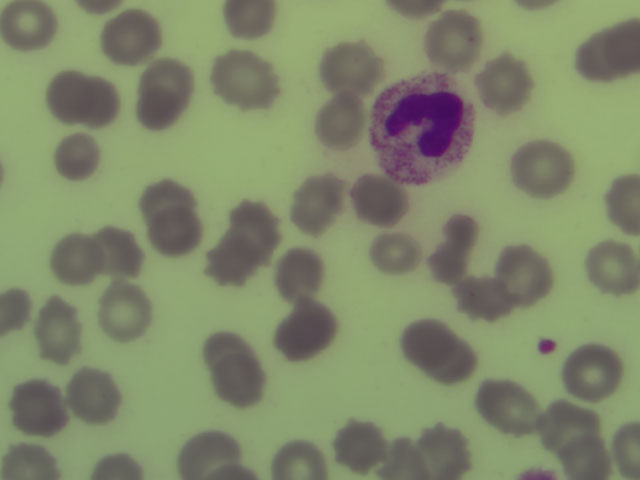Platelets: (538, 341, 555, 354)
RBC: (471, 377, 543, 436), (216, 50, 279, 114), (518, 139, 575, 201), (233, 197, 280, 271), (568, 345, 624, 405), (13, 379, 69, 437), (501, 246, 554, 307), (292, 175, 346, 234), (282, 303, 337, 359), (211, 355, 269, 408), (482, 56, 535, 113), (337, 418, 390, 475), (100, 282, 150, 342), (104, 12, 163, 62), (424, 421, 474, 480), (54, 230, 105, 287), (589, 238, 640, 295), (39, 297, 82, 364), (69, 371, 122, 425), (328, 41, 383, 93), (430, 12, 482, 67), (210, 232, 262, 287), (47, 72, 98, 126), (358, 171, 408, 226), (144, 179, 197, 229), (4, 2, 58, 50), (539, 399, 599, 442), (149, 211, 203, 258), (275, 249, 325, 299), (95, 226, 147, 274), (457, 276, 514, 319), (184, 431, 242, 472), (578, 33, 626, 82), (405, 324, 455, 370), (277, 438, 331, 480), (140, 56, 193, 98), (369, 231, 422, 273), (324, 94, 366, 145), (205, 328, 258, 367), (4, 444, 63, 478), (222, 3, 279, 38), (130, 91, 183, 128), (58, 134, 100, 180), (436, 338, 479, 382), (566, 438, 611, 480), (83, 75, 120, 126), (609, 174, 640, 233), (612, 418, 640, 480), (383, 439, 425, 480), (606, 21, 640, 69), (98, 449, 150, 480), (434, 242, 469, 286), (445, 211, 480, 250), (3, 288, 32, 333), (384, 1, 449, 18), (212, 462, 258, 480), (76, 1, 135, 14), (517, 465, 564, 480), (510, 2, 562, 12)
WBC: (370, 65, 476, 188)
